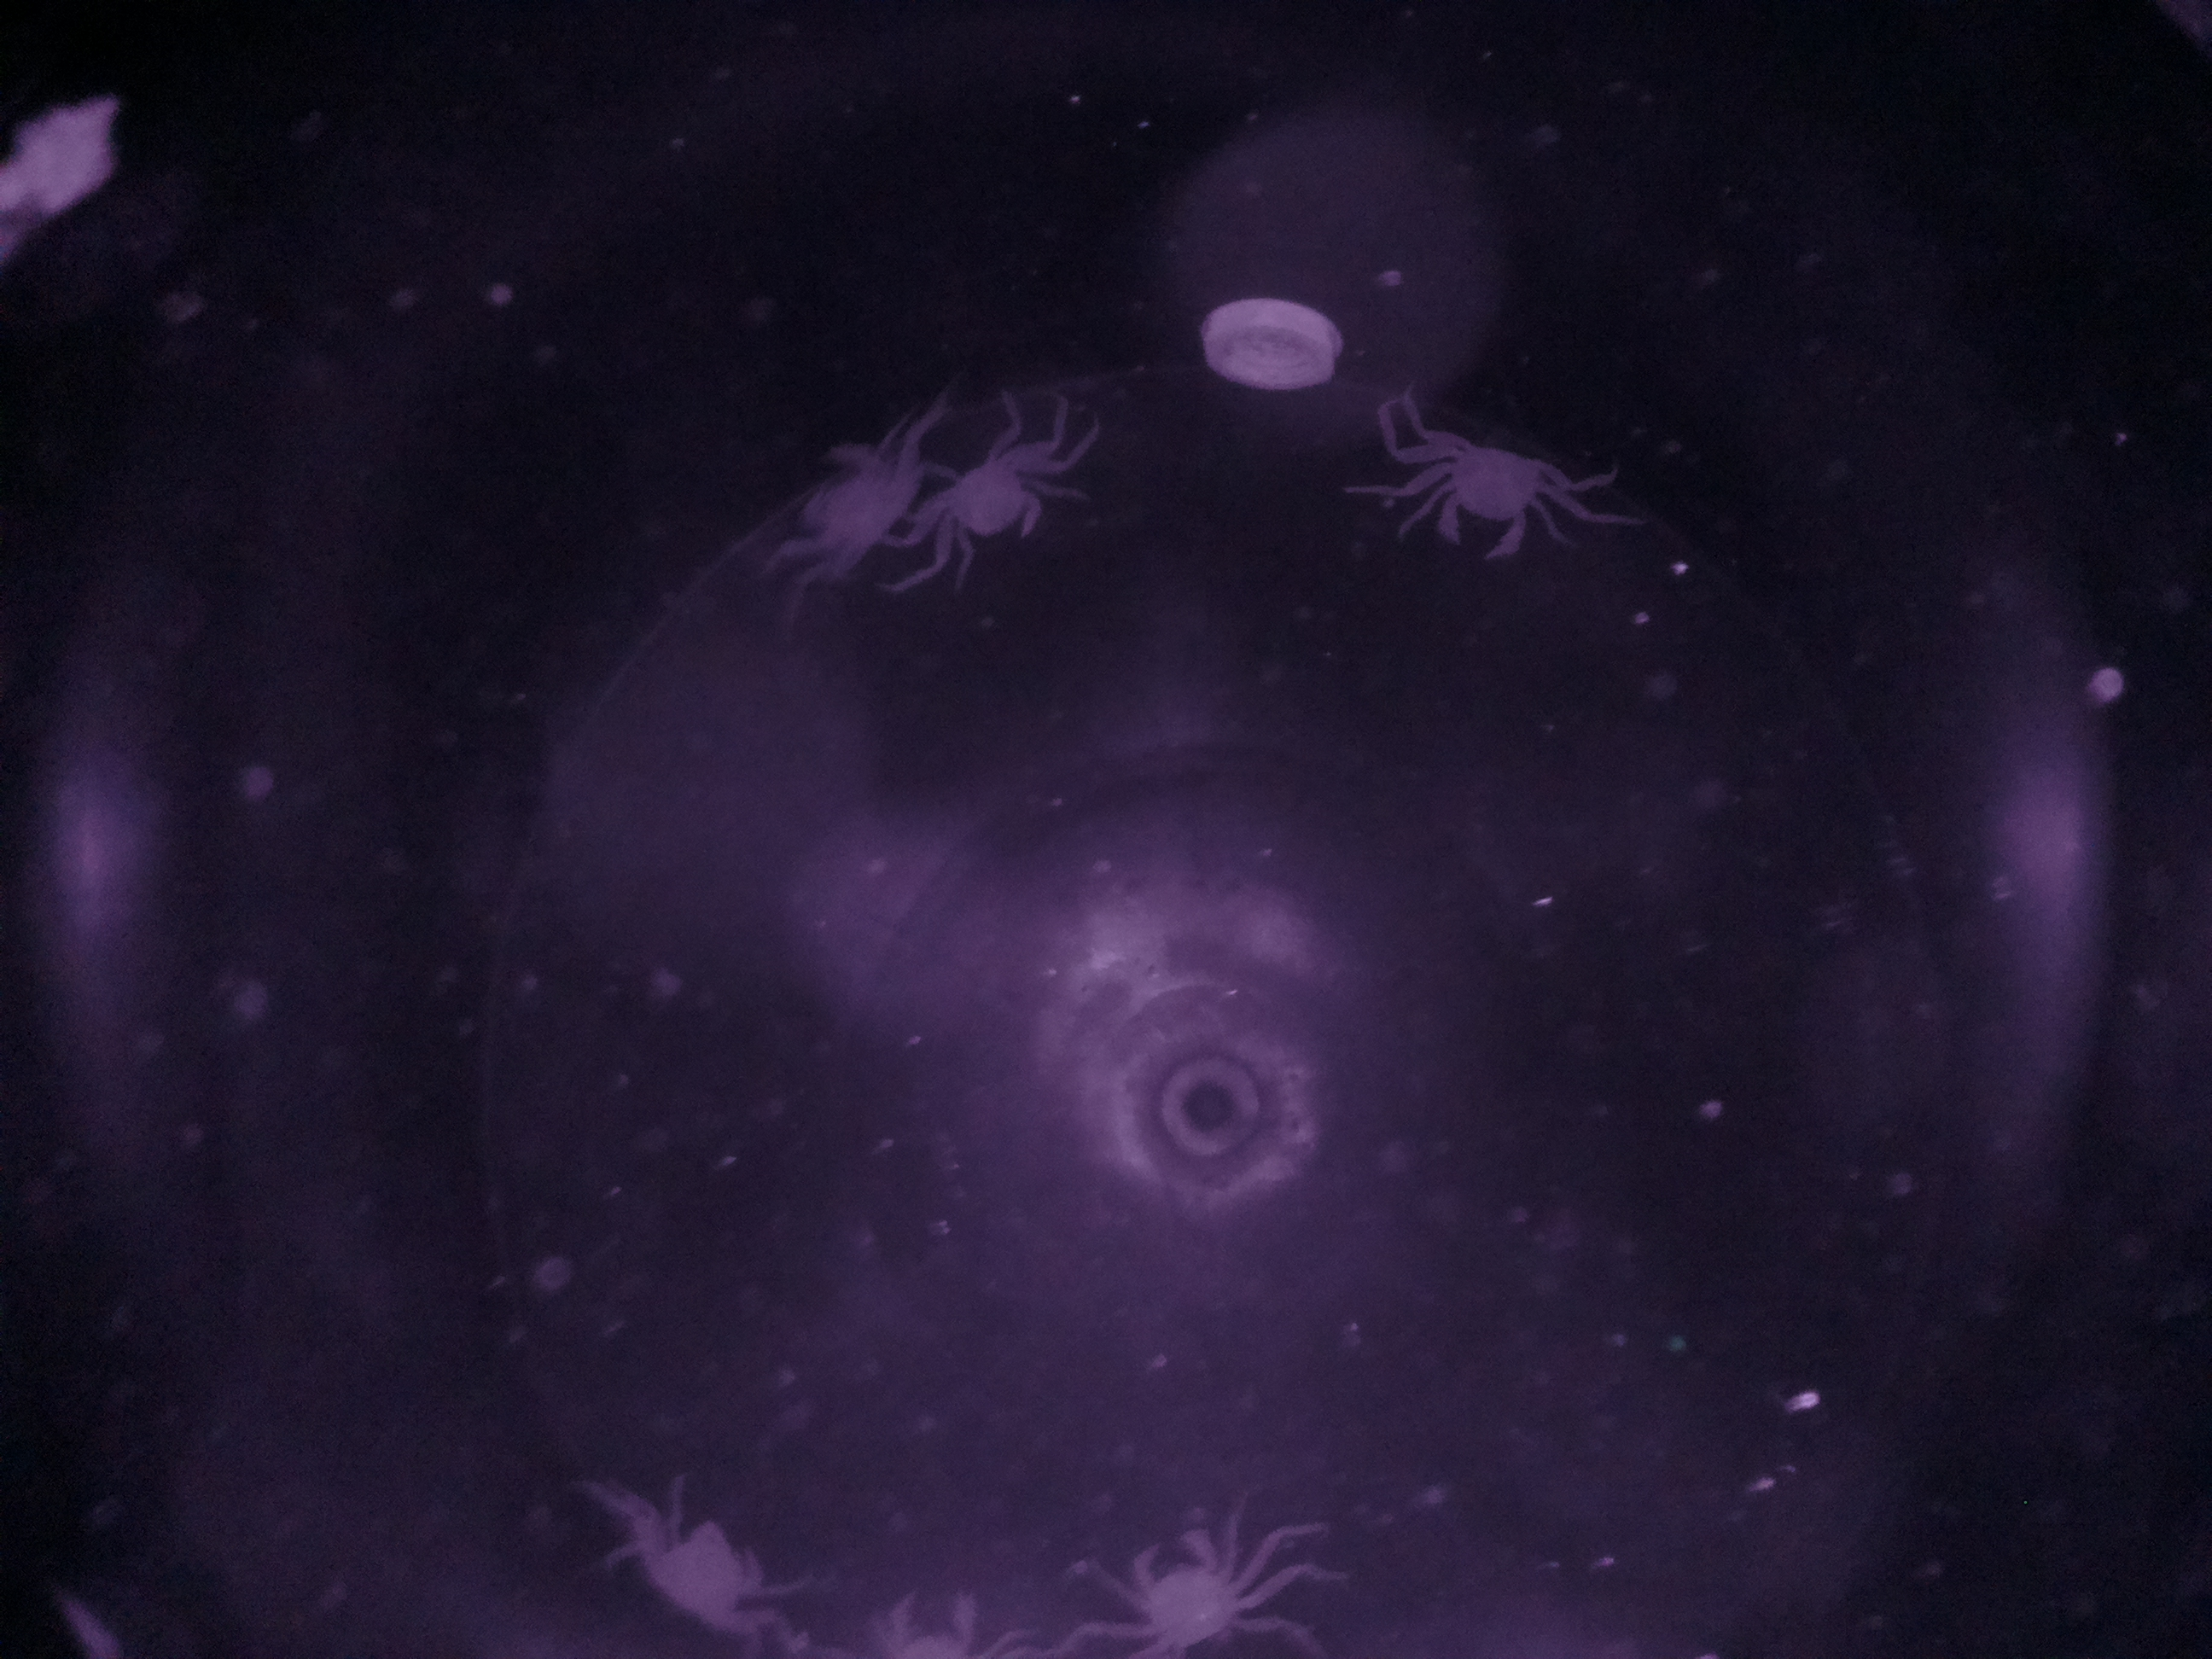Crab: (1076, 1516, 1284, 1654), (907, 413, 1071, 579), (1404, 425, 1575, 570)
